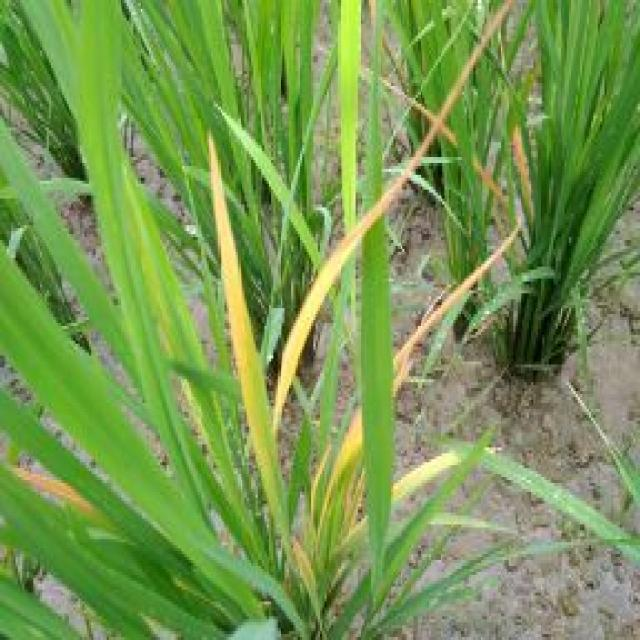Tungro: (206, 144, 486, 473)
